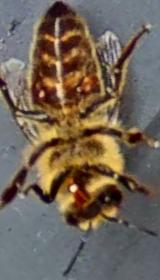varroa_mite: (72, 66, 103, 96), (26, 74, 50, 104)
